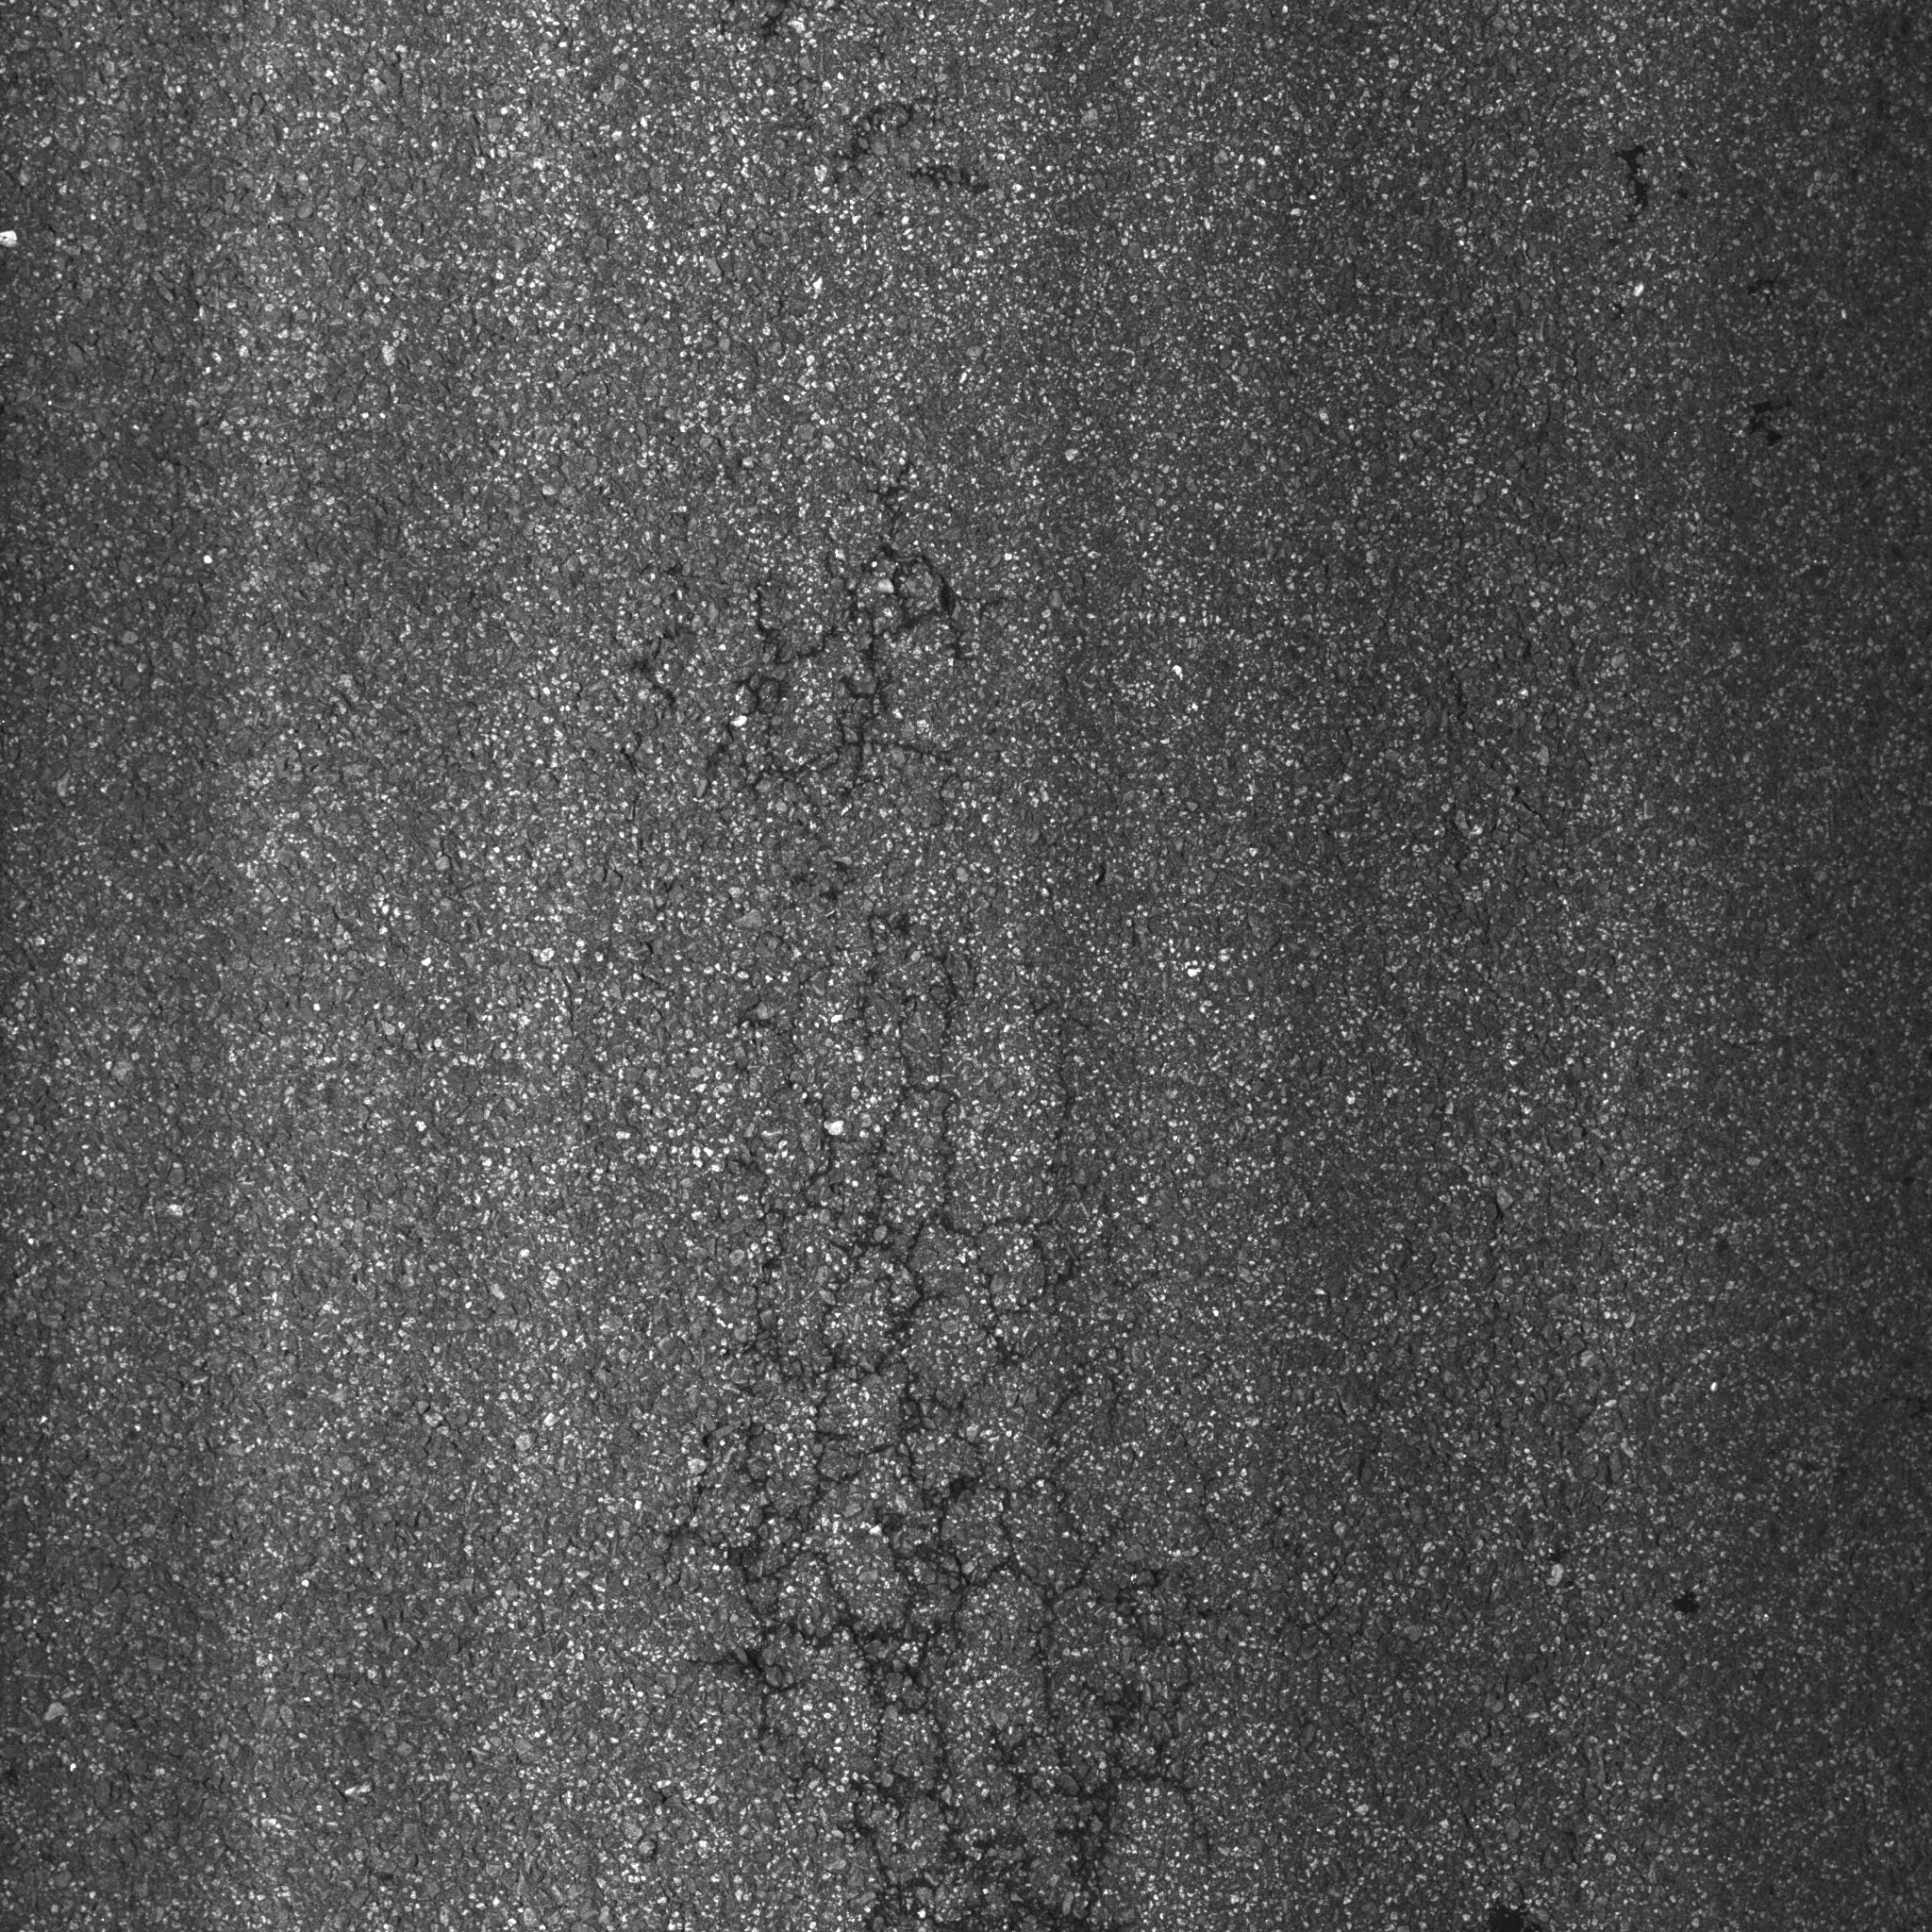alligator: (520, 499, 1341, 1932)
